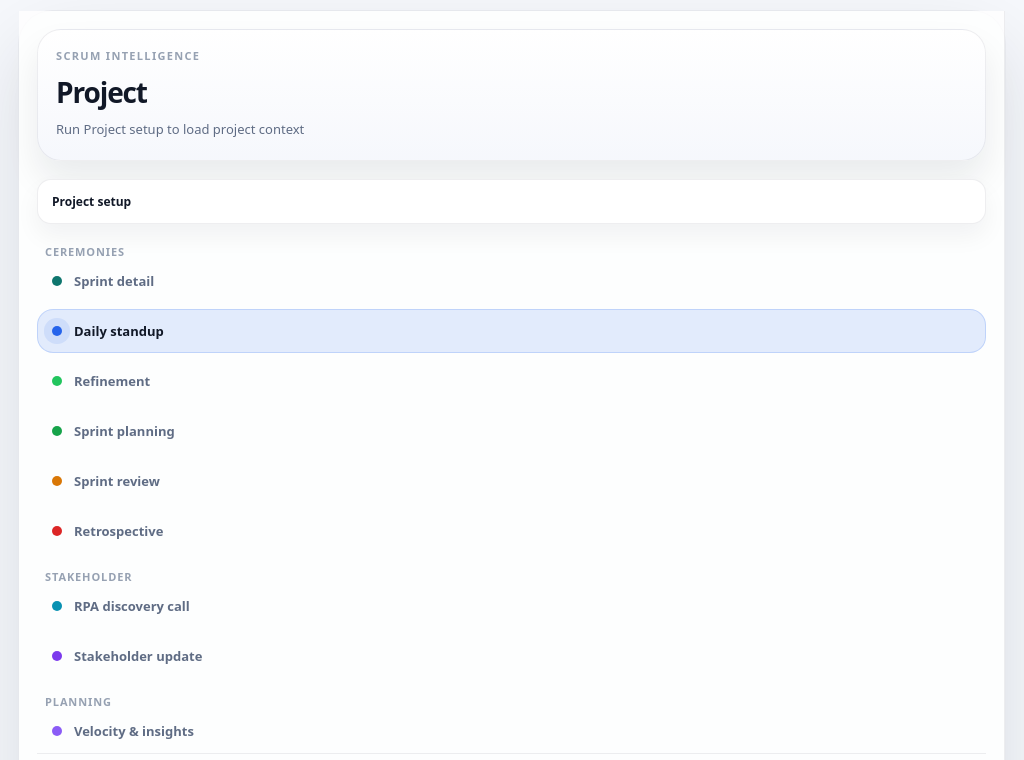
Scenario: project setup is a dedicated page with instructions and the setup prompt
Step 1. Click the button "Project setup" → (92, 201), box [37,179,986,224]
(page scrolled)
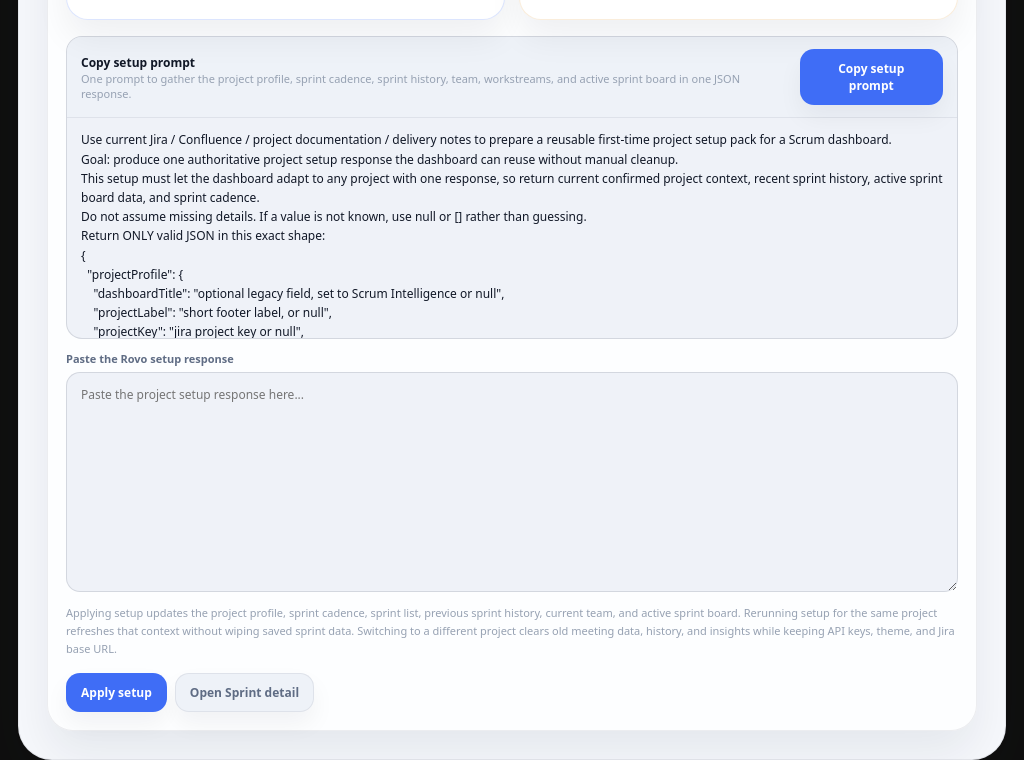
Expected: the button "Copy setup prompt" is shown, [800,50,943,106]
Expected: the text box with placeholder "Paste the project setup response here..." is shown, [66,372,958,592]
